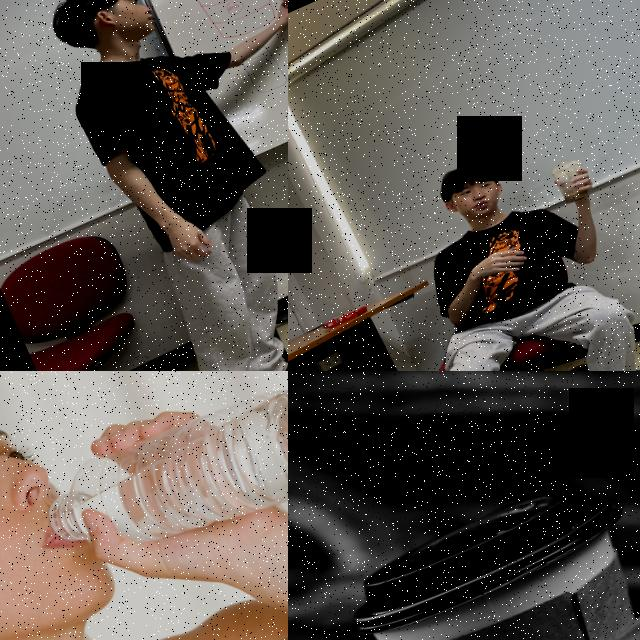bottle: (32, 371, 288, 591)
cup: (339, 469, 640, 640), (547, 155, 597, 207)
